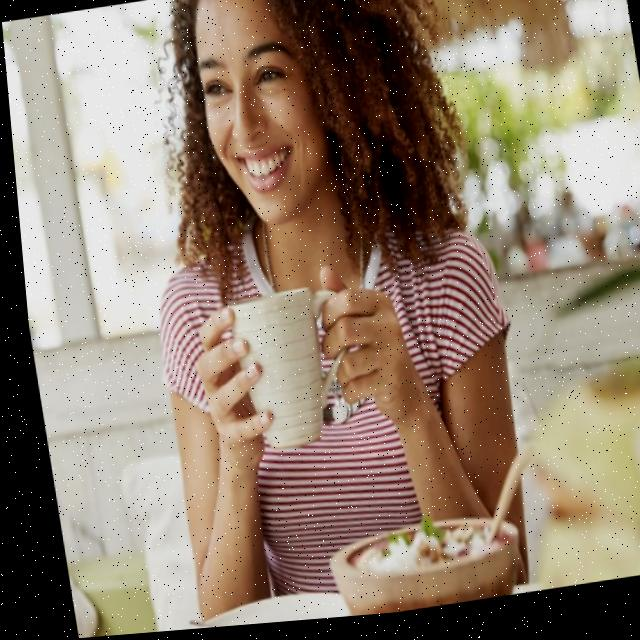eating-person: (77, 0, 564, 635)
